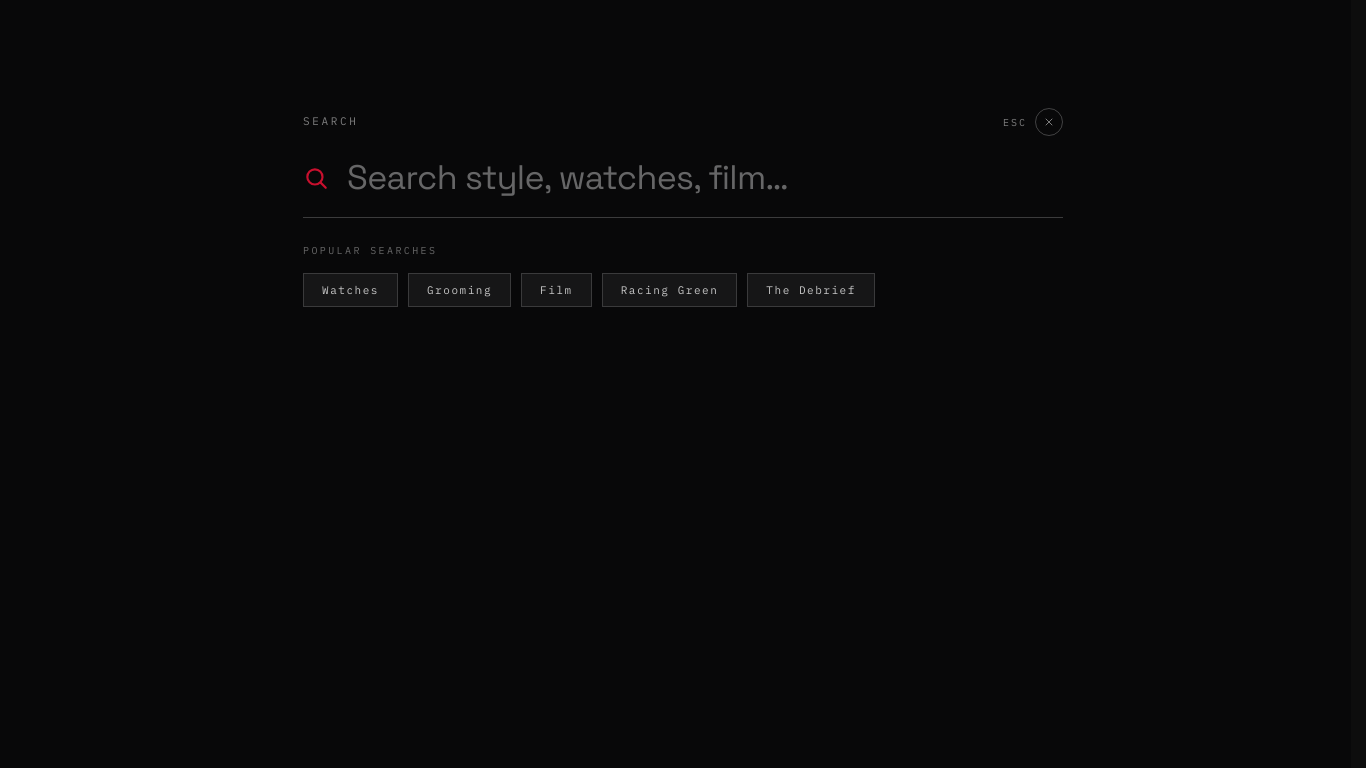
it: SearchOverlay published index › does not truncate matching store results at eight
In the field named "Search editorial and store": [704, 177] box x1=345 y1=158 x2=1063 y2=197, type "search match"
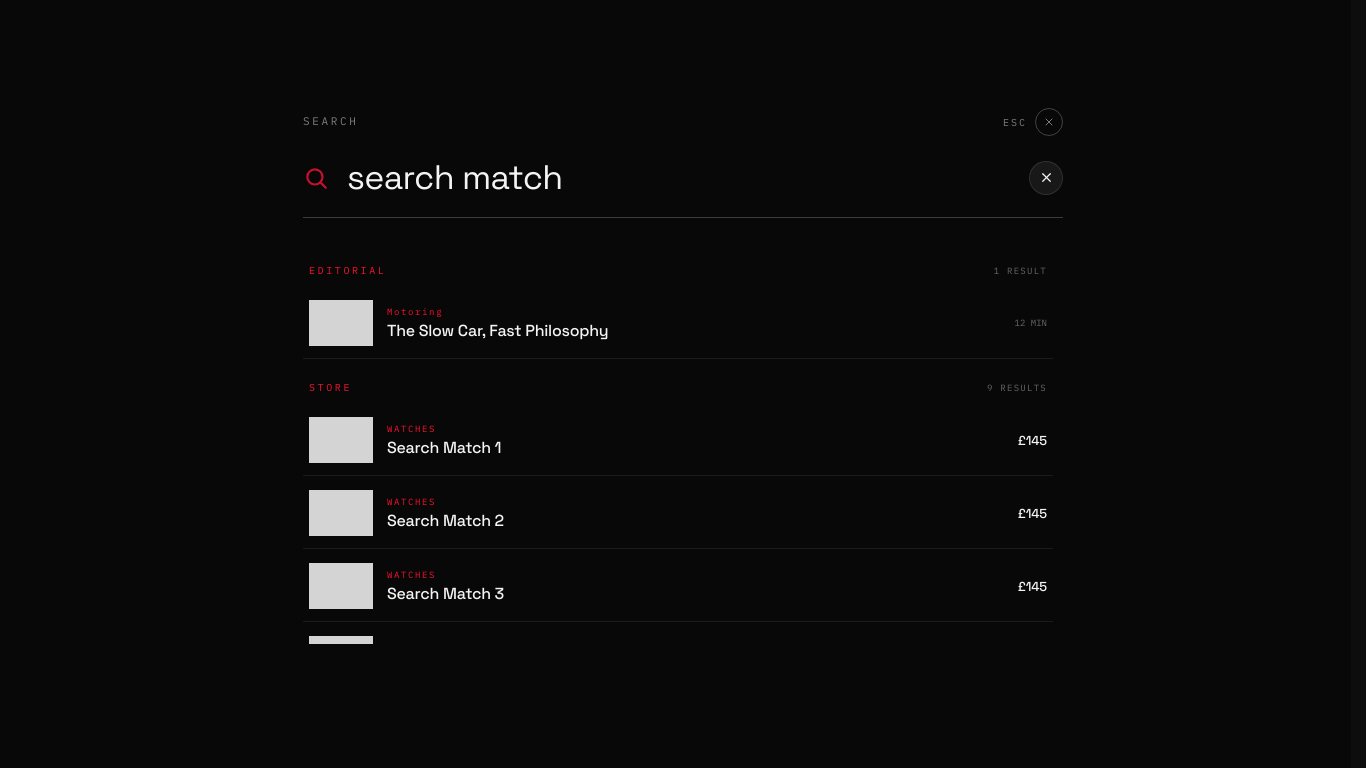
expect the text "9 RESULTS" is shown: met, box x1=987 y1=383 x2=1047 y2=394
expect the number of links "WATCHES Search Match 1 £145" is 9: met
